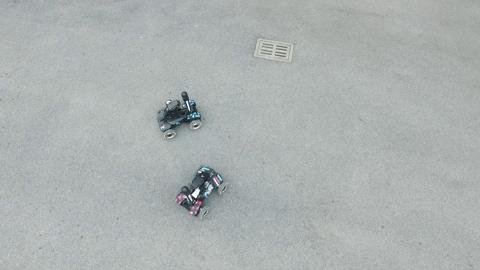chariot: (171, 158, 231, 223), (153, 88, 205, 140)
